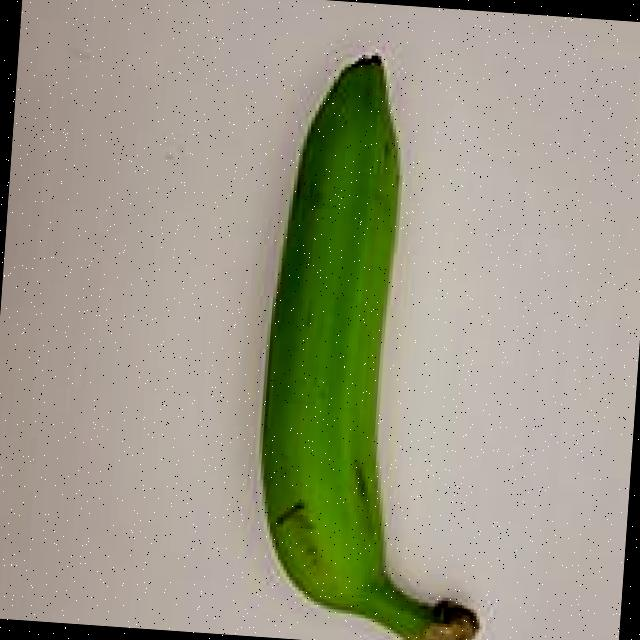Raw: (186, 38, 551, 640)
